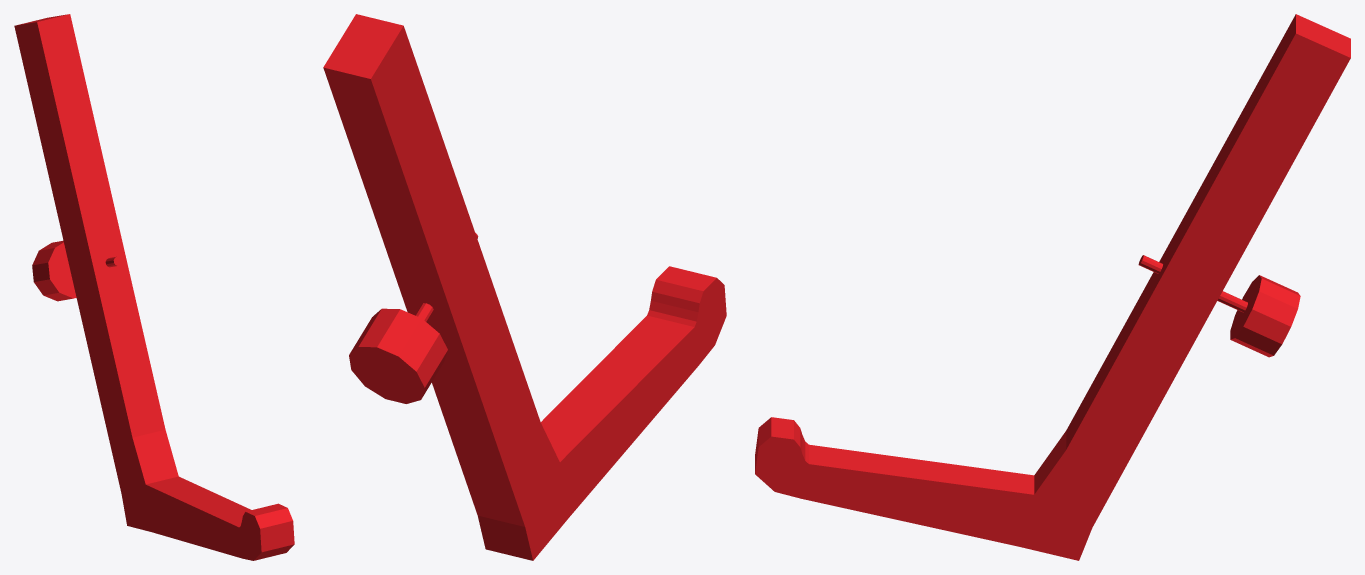
File: key_jack.obj
3 renders of one model, left to right at view 1: azimuth 30°, elevation 25°; view 2: azimuth 150°, elevation 25°; view 3: azimuth 270°, elevation 25°, orthographic. The views are drawn at different scales.
Parts seen in each view (by area): view 1: white_keys.014_Cube.053; view 2: white_keys.014_Cube.053; view 3: white_keys.014_Cube.053.
Part boxes in pixels (bbox=[...]): white_keys.014_Cube.053: bbox=[14, 14, 294, 560]; white_keys.014_Cube.053: bbox=[323, 14, 726, 560]; white_keys.014_Cube.053: bbox=[755, 14, 1350, 560].
Bounding box in the file's own units: 0.0075 × 0.0614 × 0.0629.
Materials: 1 (1 with a texture image).
